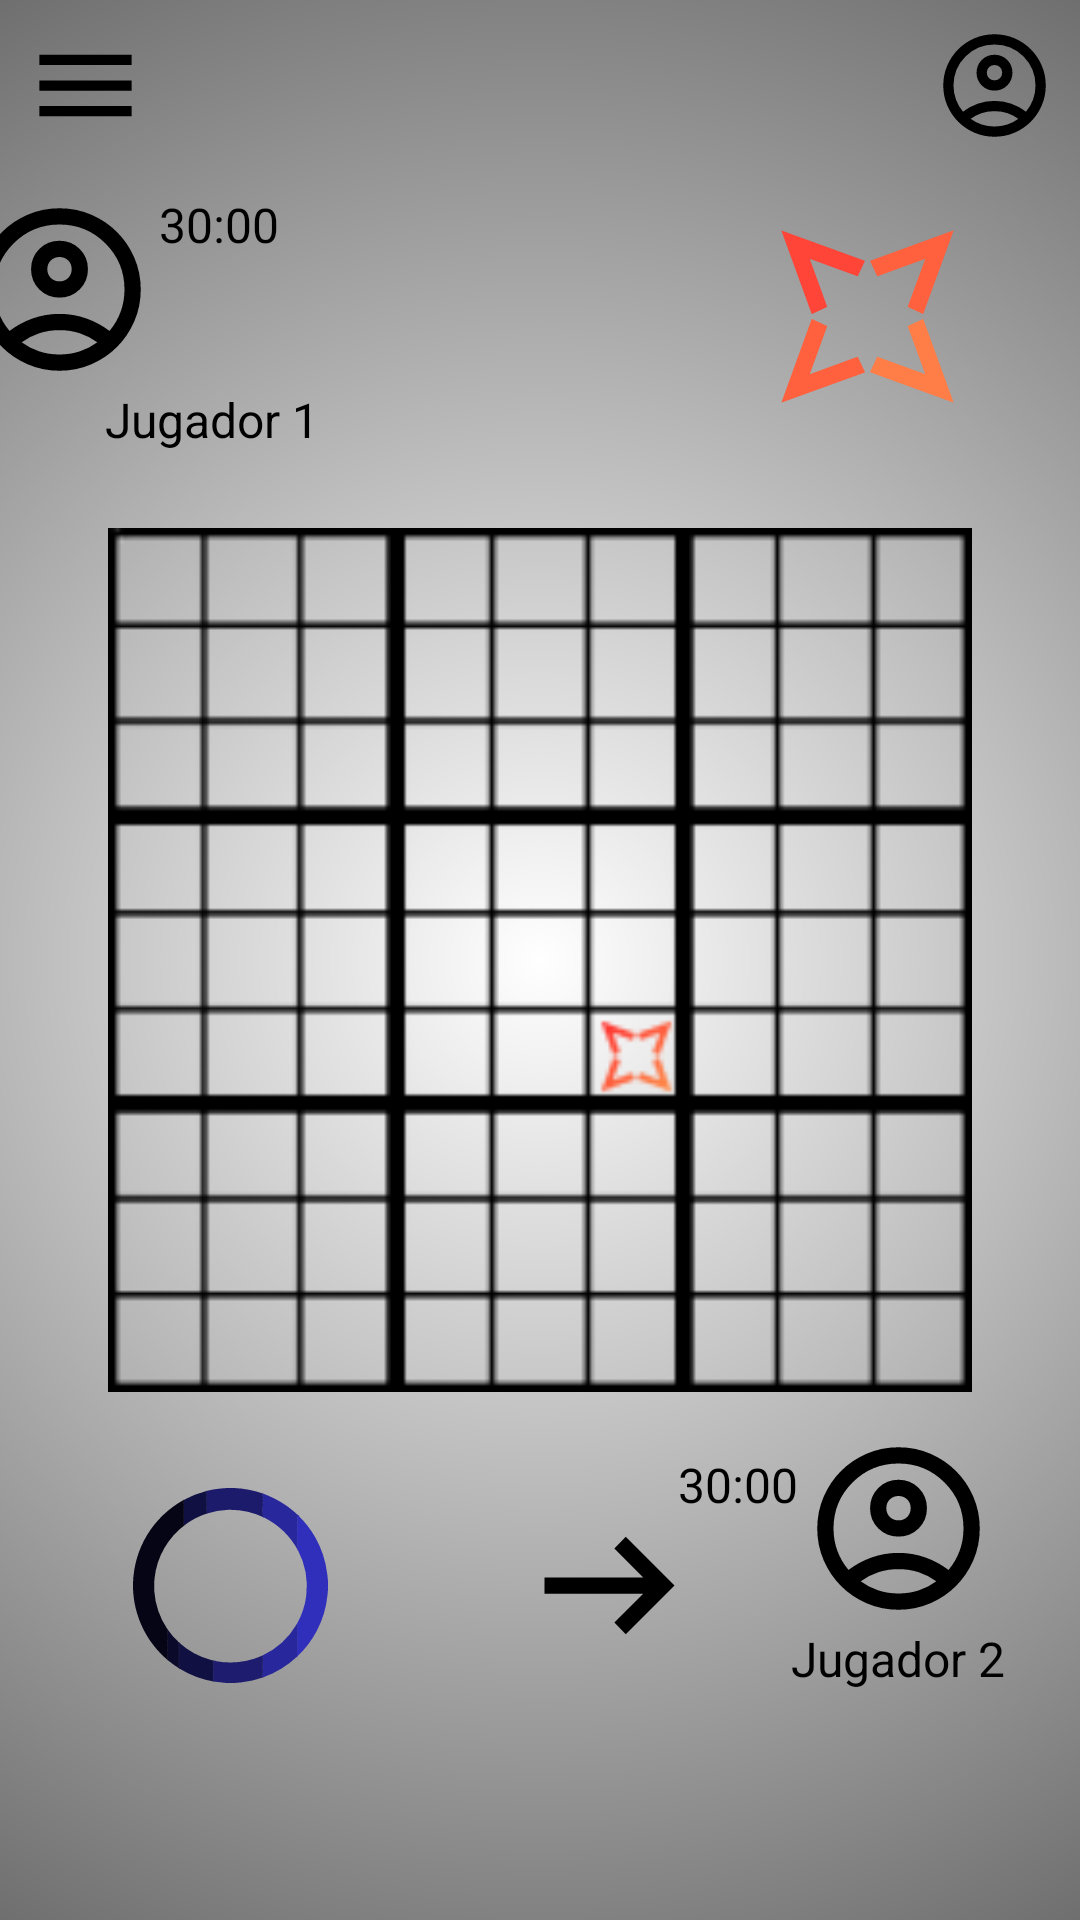

Screen size 1080×1920. Icon name, then its box in pixels as box(x1, y1, x2, y2):
menu: box(39, 54, 132, 117)
